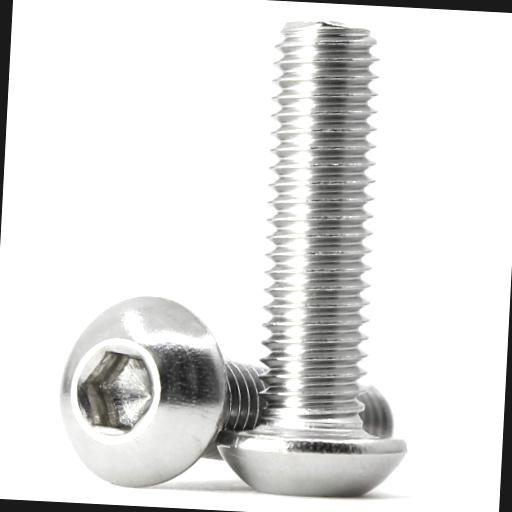Hex-Allen: (53, 290, 232, 495)
